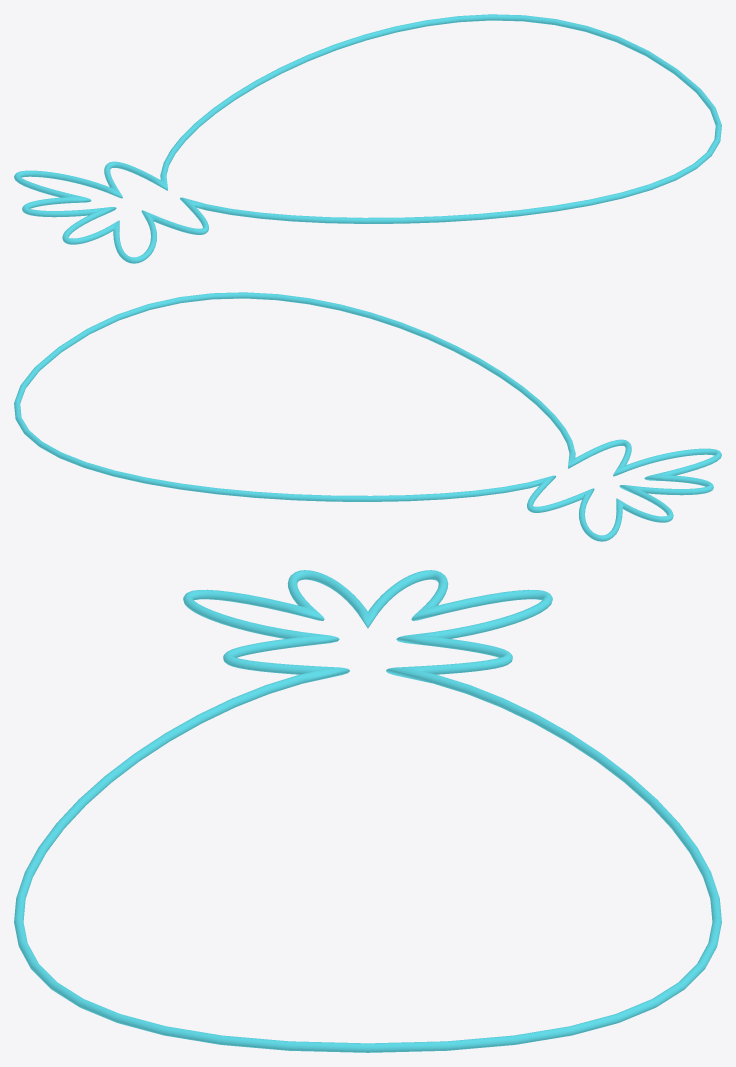
The model's file is directional_pattern_h.glb.
3 views of the same model, one above another, from view 1: azimuth 30°, elevation 25°; view 2: azimuth 150°, elevation 25°; view 3: azimuth 270°, elevation 25° (orthographic). The views are drawn at different scales.
Visible parts, largest first — view 1: directional_pattern_h; view 2: directional_pattern_h; view 3: directional_pattern_h.
Part boxes in pixels (box(x1,y1,x2,y2)): directional_pattern_h: box(14, 14, 721, 263); directional_pattern_h: box(14, 292, 721, 541); directional_pattern_h: box(14, 570, 721, 1052).
Bounding box in the file's own units: 0.7083 × 0.006 × 0.444.
